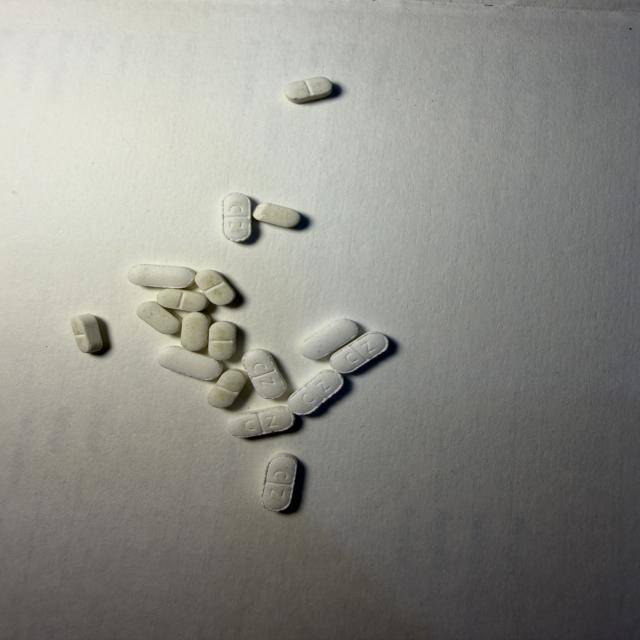pill: (288, 370, 343, 415), (330, 332, 388, 373), (301, 319, 358, 359), (242, 349, 286, 399), (158, 346, 222, 380), (228, 406, 294, 437), (262, 453, 297, 511), (128, 265, 195, 288), (137, 301, 180, 334), (209, 370, 246, 408), (195, 270, 235, 304), (223, 193, 251, 241), (71, 314, 103, 353), (285, 77, 332, 103), (181, 313, 211, 351), (157, 289, 208, 311), (253, 204, 300, 227), (209, 321, 236, 360)
